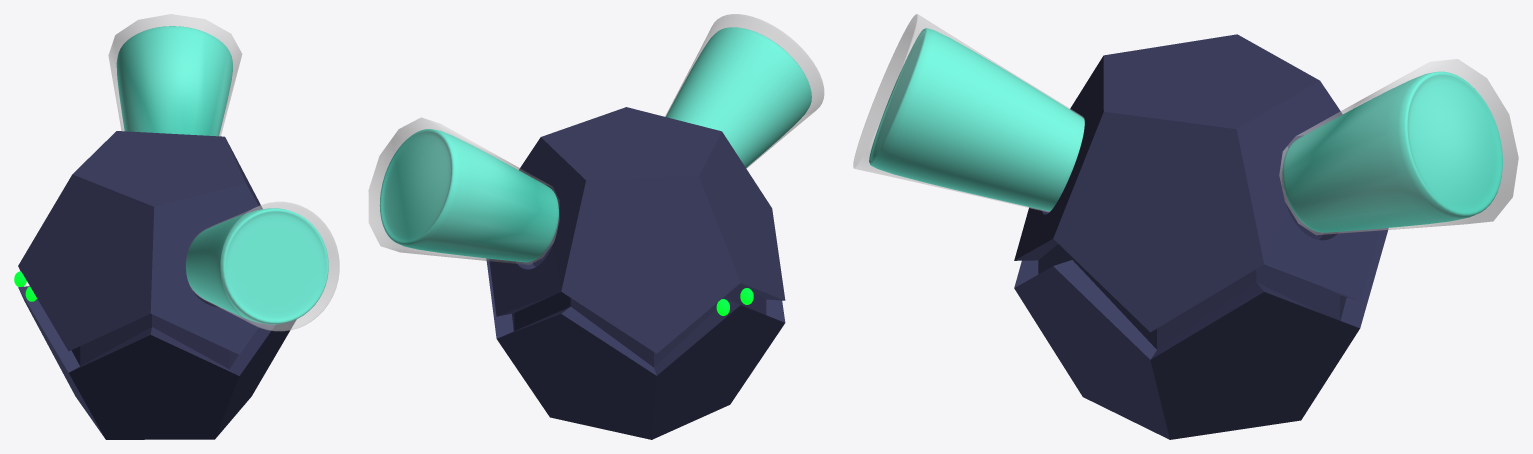
The model's file is Model_Buggy.fbx.
The picture shows the model from 3 angles, left to right: view 1: azimuth 30°, elevation 25°; view 2: azimuth 150°, elevation 25°; view 3: azimuth 270°, elevation 25°; orthographic projection. The views are drawn at different scales.
Parts seen in each view (by area): view 1: Bug_Base, Glass, Glass.001, Secondary Fluid, Secondary Fluid.001; view 2: Bug_Base, Glass.001, Secondary Fluid.001, Glass, Secondary Fluid; view 3: Bug_Base, Glass.001, Glass, Secondary Fluid.001, Secondary Fluid.
Boxes of the visible parts, left/top/right/bottom form: Bug_Base: left=18, top=131, right=296, bottom=439; Glass: left=186, top=201, right=339, bottom=331; Glass.001: left=108, top=14, right=242, bottom=136; Secondary Fluid: left=186, top=208, right=328, bottom=324; Secondary Fluid.001: left=116, top=26, right=232, bottom=136; Bug_Base: left=486, top=107, right=785, bottom=439; Glass.001: left=368, top=117, right=559, bottom=264; Secondary Fluid.001: left=379, top=129, right=558, bottom=262; Glass: left=665, top=14, right=824, bottom=168; Secondary Fluid: left=666, top=27, right=811, bottom=167; Bug_Base: left=1014, top=34, right=1388, bottom=439; Glass.001: left=1279, top=59, right=1518, bottom=235; Glass: left=853, top=14, right=1084, bottom=212; Secondary Fluid.001: left=1282, top=71, right=1502, bottom=232; Secondary Fluid: left=869, top=28, right=1084, bottom=211.
Bounding box in the file's own units: 369 × 374 × 572.
